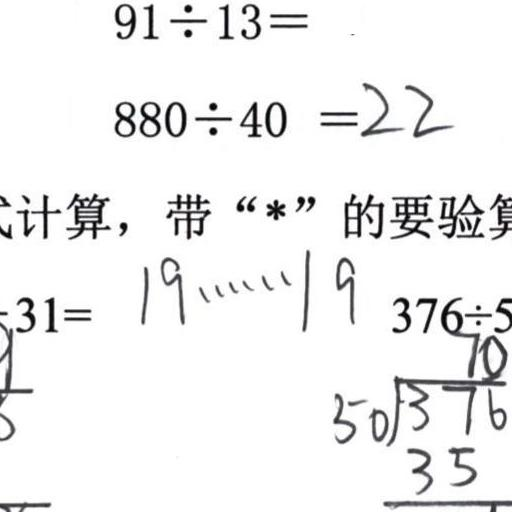ans: (131, 243, 359, 331), (354, 74, 452, 140)
